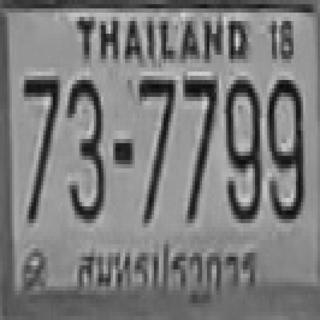N03: (65, 76, 104, 219)
N07: (22, 72, 58, 219), (137, 74, 173, 221), (182, 76, 215, 219)
N09: (265, 76, 303, 219), (224, 76, 260, 219)
P57: (74, 240, 262, 299)
